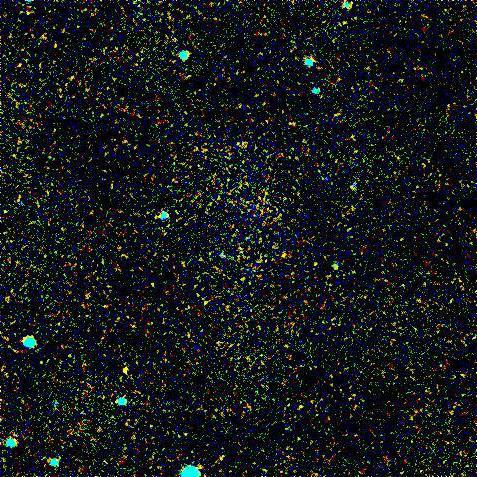star: (269, 238, 299, 268)
